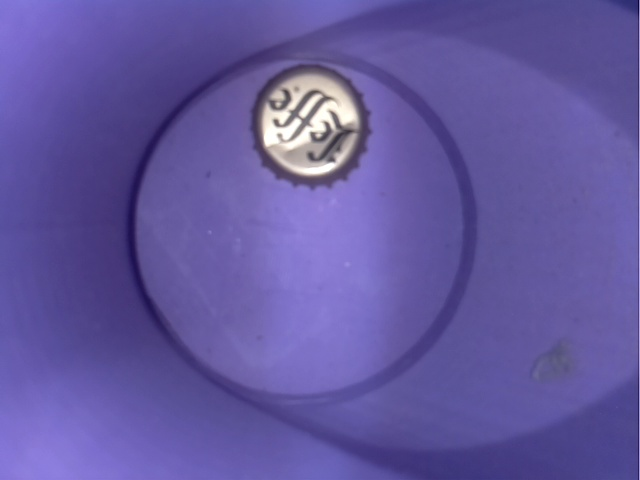capsule: (240, 51, 386, 199)
